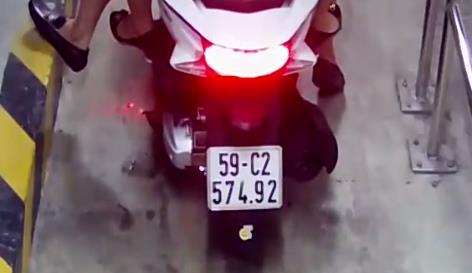lisence: (207, 145, 283, 211)
